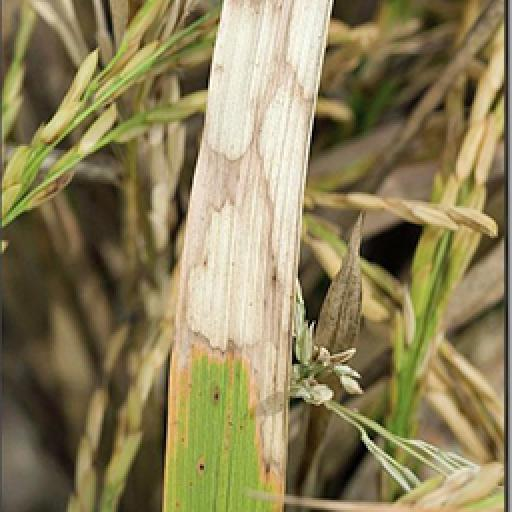Sheath Blight: (168, 0, 336, 476)
